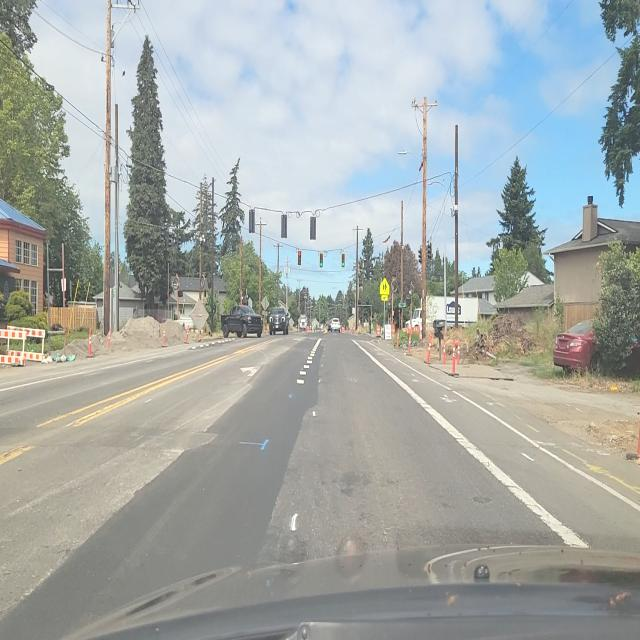car: (554, 319, 640, 379), (220, 302, 264, 338), (268, 308, 290, 336), (329, 318, 341, 333), (298, 316, 308, 330)
crosswalk-sign: (380, 278, 390, 300)
delineator: (451, 339, 458, 375), (426, 336, 432, 365), (406, 330, 412, 356), (442, 338, 447, 365), (456, 338, 461, 365), (88, 329, 92, 357), (107, 327, 112, 349), (184, 326, 190, 344), (428, 331, 433, 348), (396, 327, 400, 348), (162, 326, 166, 346), (452, 336, 456, 356), (197, 326, 200, 342)
